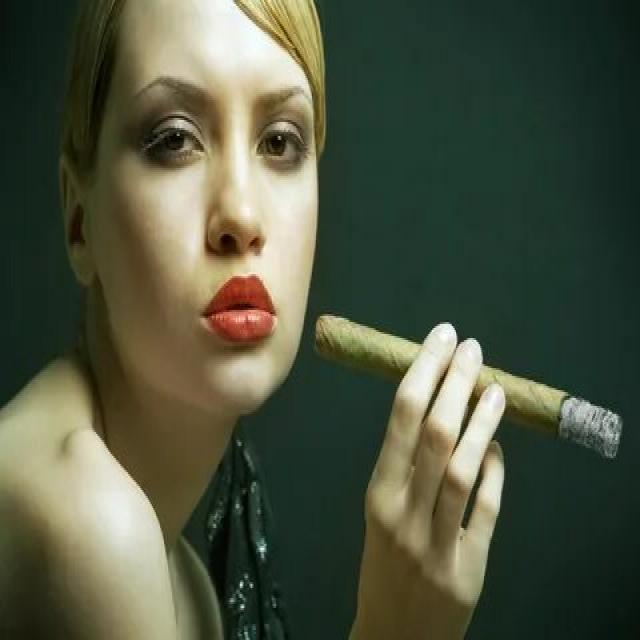smoke: (313, 306, 631, 460)
